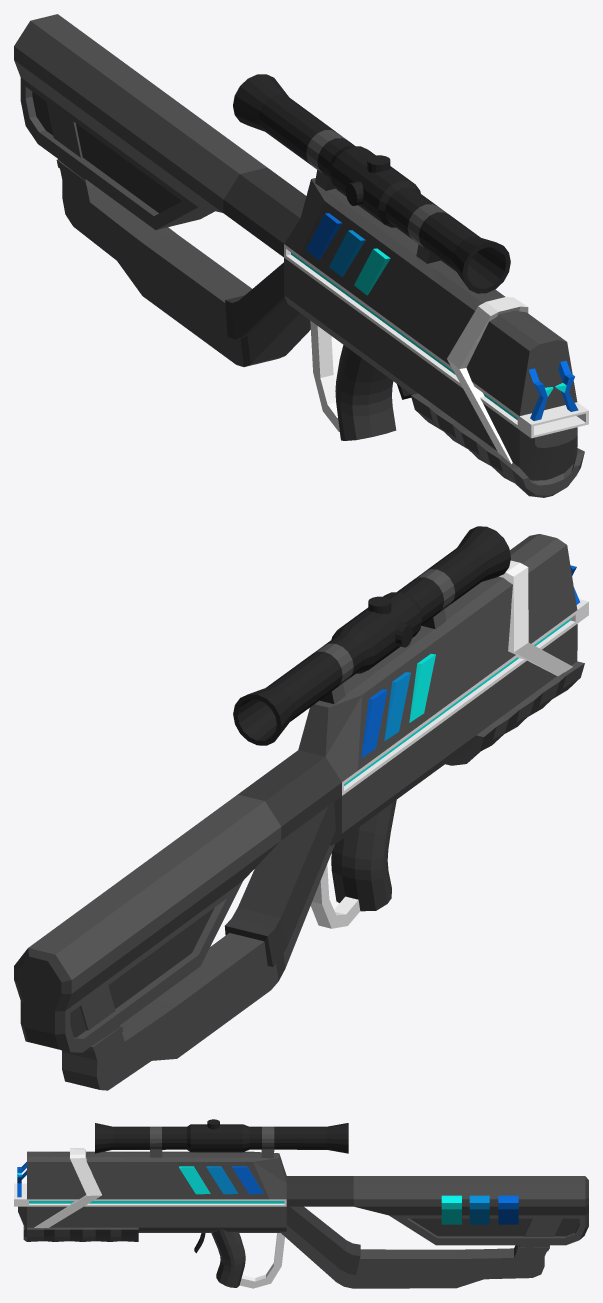
The model's file is ElectricityBlaster.fbx.
The picture shows the model from 3 angles, top to bottom: view 1: azimuth 30°, elevation 25°; view 2: azimuth 150°, elevation 25°; view 3: azimuth 270°, elevation 25°; orthographic projection. The views are drawn at different scales.
Parts seen in each view (by area): view 1: Main, StockBottom, Cylinder, Grip, Barrel; view 2: Main, StockBottom, Cylinder, Grip, Barrel; view 3: Main, StockBottom, Cylinder, Barrel, Grip, Cube.
Boxes of the visible parts, <box> form: Main: <box>14,14,588,497</box>; StockBottom: <box>46,102,310,366</box>; Cylinder: <box>233,74,510,293</box>; Grip: <box>310,320,396,440</box>; Barrel: <box>306,213,528,463</box>; Main: <box>14,534,588,1052</box>; StockBottom: <box>61,802,335,1090</box>; Cylinder: <box>233,526,510,745</box>; Grip: <box>310,800,396,928</box>; Barrel: <box>361,560,572,758</box>; Main: <box>14,1151,588,1245</box>; StockBottom: <box>281,1206,562,1288</box>; Cylinder: <box>95,1119,348,1158</box>; Barrel: <box>34,1148,263,1228</box>; Grip: <box>211,1229,284,1288</box>; Cube: <box>441,1195,518,1224</box>.
Size of the model in its own units: 405 by 1558 by 4948.
